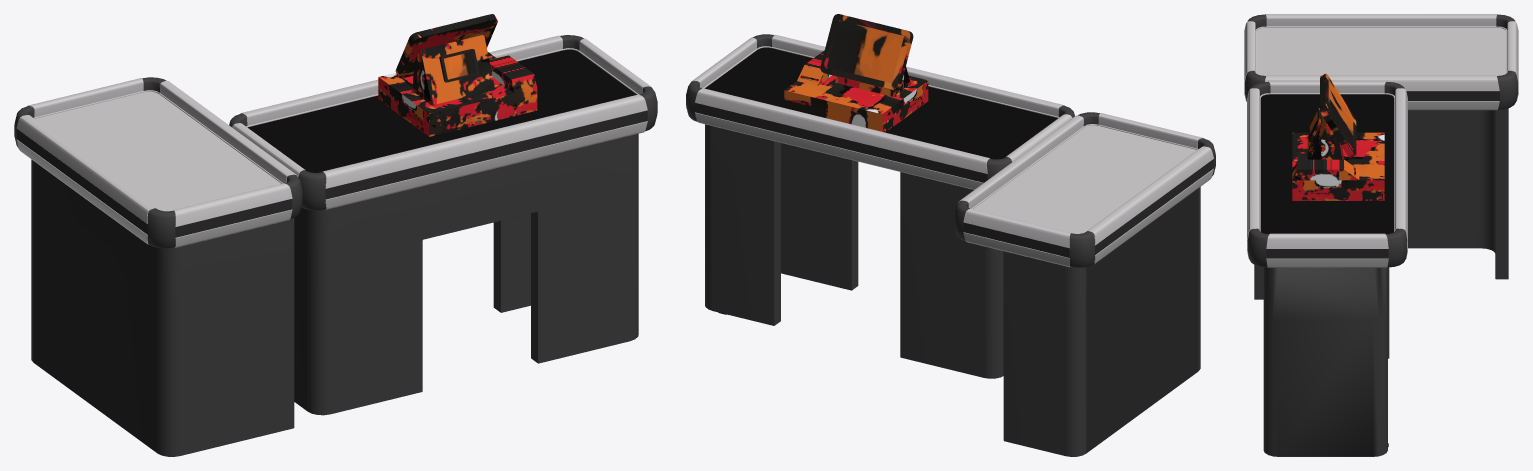
Rendered from Cashier Desk.fbx.
The picture shows the model from 3 angles, left to right: view 1: azimuth 30°, elevation 25°; view 2: azimuth 150°, elevation 25°; view 3: azimuth 270°, elevation 25°; orthographic projection. The views are drawn at different scales.
Parts seen in each view (by area): view 1: Cube.004, Cube.011, cashreg; view 2: Cube.004, Cube.011, cashreg; view 3: Cube.004, Cube.011, cashreg.
Part boxes in pixels (box(x1,y1,x2,y2)): Cube.004: box(229, 35, 657, 415); Cube.011: box(14, 77, 302, 456); cashreg: box(378, 14, 537, 136); Cube.004: box(686, 34, 1074, 378); Cube.011: box(954, 112, 1215, 456); cashreg: box(784, 14, 928, 132); Cube.004: box(1247, 81, 1407, 456); Cube.011: box(1244, 14, 1518, 299); cashreg: box(1292, 73, 1384, 200).
Bounding box in the file's own units: 191 × 117 × 98.15.
